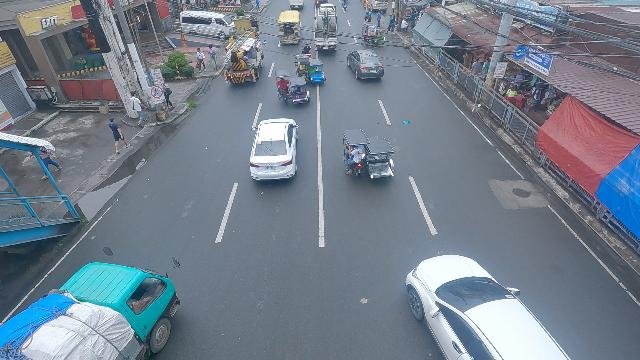car: (406, 254, 578, 360), (248, 116, 300, 183), (346, 49, 385, 80), (363, 0, 389, 13)
jeepney: (278, 10, 302, 46)
motorcycle: (363, 12, 372, 23), (342, 0, 348, 10)
truck: (0, 252, 183, 360), (223, 16, 266, 85), (314, 3, 338, 51)
van: (178, 10, 236, 40)
